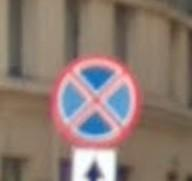No Parking: (52, 56, 143, 149)
